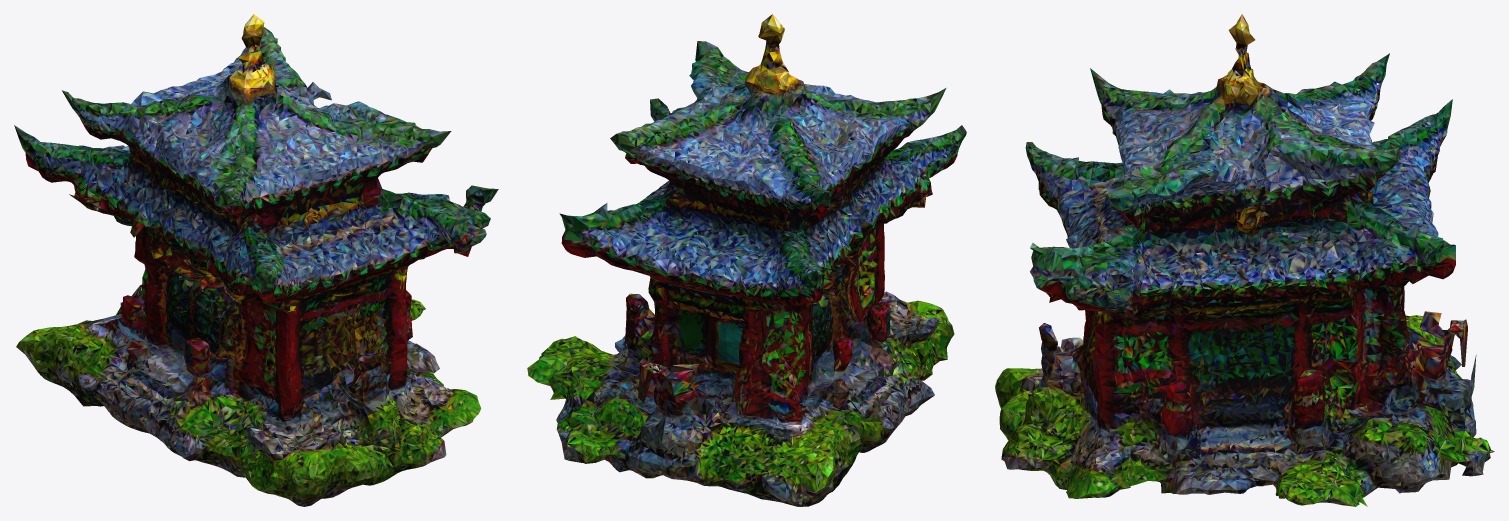
Rendered from temple-normal.glb.
The picture shows the model from 3 angles, left to right: view 1: azimuth 30°, elevation 25°; view 2: azimuth 150°, elevation 25°; view 3: azimuth 270°, elevation 25°; orthographic projection. The views are drawn at different scales.
Parts seen in each view (by area): view 1: extracted_mesh; view 2: extracted_mesh; view 3: extracted_mesh.
Part boxes in pixels (box(x1,y1,x2,y2)): extracted_mesh: box(14, 14, 498, 506); extracted_mesh: box(527, 14, 966, 506); extracted_mesh: box(995, 14, 1494, 506).
Size of the model in its own units: 0.8737 by 0.9939 by 1.03.
Materials: 1 (1 with a texture image).
